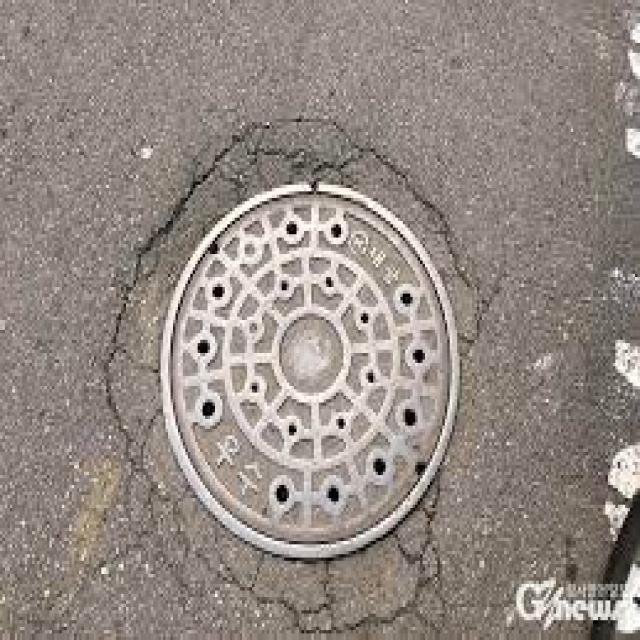Sewer Cover: (136, 173, 481, 578)
